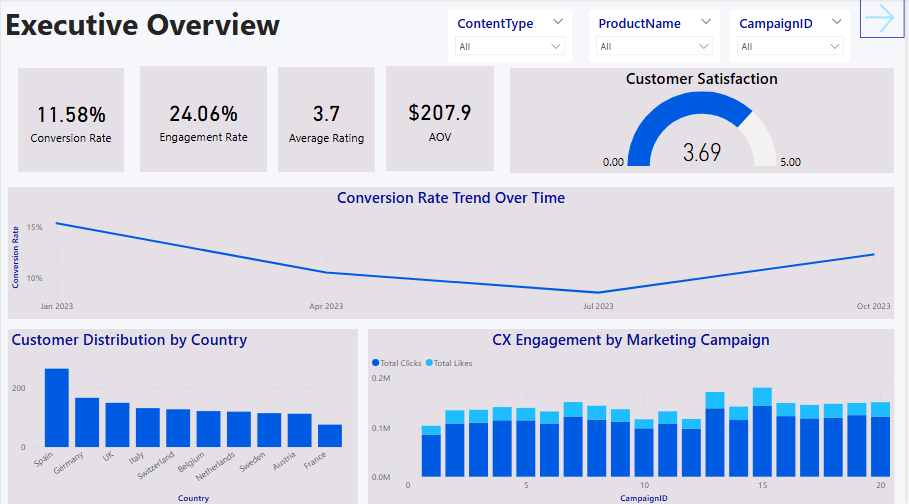

The page's visual inventory and layout, read from the dashboard file:
{"tool":"powerbi","page":{"name":"Executive Overview","canvas":[1280,720],"ordinal":1},"visuals":[{"type":"textbox","box":[0,0,614.9,77.8],"z":0},{"type":"card","fields":{"Values":["KPI_Measures.Conversion Rate"]},"box":[24.1,97.8,150.2,147.4],"z":1000},{"type":"card","fields":{"Values":["KPI_Measures.Engagement Rate"]},"box":[197,95,180,150.2],"z":2000},{"type":"card","fields":{"Values":["KPI_Measures.AOV"]},"box":[392.6,96.4,137.5,148.8],"z":3000},{"type":"lineChart","title":"Conversion Rate Trend Over Time","fields":{"Y":["KPI_Measures.Conversion Rate"],"Category":["DateTable.Date.Variation.Date Hierarchy.Year","DateTable.Date.Variation.Date Hierarchy.Quarter","DateTable.Date.Variation.Date Hierarchy.Month","DateTable.Date.Variation.Date Hierarchy.Day"]},"box":[9.9,266.5,1255.7,187.1],"z":4000},{"type":"gauge","title":"Customer Satisfaction","fields":{"Y":["KPI_Measures.Avg Rating"]},"box":[721.4,97.8,279.2,148.8],"z":5000},{"type":"clusteredColumnChart","title":"Customer Distribution by Country","fields":{"Category":["vw_geography_final.Country","vw_geography_final.City"],"Y":["CountNonNull(vw_customer_journey_cta.CustomerID)"]},"box":[9.9,467.7,496.1,252.3],"z":6000},{"type":"columnChart","title":"CX Engagement by Marketing Campaign","fields":{"Y":["KPI_Measures.Total Clicks","KPI_Measures.Total Likes"],"Category":["vw_engagement_data_final.CampaignID"]},"box":[520.2,467.7,745.5,252.3],"z":7000},{"type":"slicer","fields":{"Values":["vw_engagement_data_final.EngagementDate"]},"box":[1033.2,112,243.8,107.7],"z":8000},{"type":"slicer","fields":{"Values":["vw_engagement_data_final.CampaignID"]},"box":[1033.2,15.6,171.5,73.7],"z":9000},{"type":"slicer","fields":{"Values":["vw_products_final.ProductName"]},"box":[833.4,15.6,185.7,73.7],"z":10000},{"type":"slicer","fields":{"Values":["vw_engagement_data_final.ContentType"]},"box":[633.5,15.6,175.7,73.7],"z":11000},{"type":"actionButton","box":[1216.8,0,63.4,54.7],"z":12000},{"type":"card","fields":{"Values":["KPI_Measures.AOV"]},"box":[545.7,95,153.1,148.8],"z":13000}]}

Visuals, with their boxes in screenshot pixels (x1, y1, x2, y2), scaled from the page's 1280x720 canvas onto the 909x504 screenshot:
textbox: region(0, 0, 437, 54)
card - KPI_Measures.Conversion Rate: region(17, 68, 124, 172)
card - KPI_Measures.Engagement Rate: region(140, 66, 268, 172)
card - KPI_Measures.AOV: region(279, 67, 376, 172)
"Conversion Rate Trend Over Time" lineChart: region(7, 187, 899, 318)
"Customer Satisfaction" gauge: region(512, 68, 711, 173)
"Customer Distribution by Country" clusteredColumnChart: region(7, 327, 359, 503)
"CX Engagement by Marketing Campaign" columnChart: region(369, 327, 899, 503)
slicer - vw_engagement_data_final.EngagementDate: region(734, 78, 907, 154)
slicer - vw_engagement_data_final.CampaignID: region(734, 11, 856, 63)
slicer - vw_products_final.ProductName: region(592, 11, 724, 63)
slicer - vw_engagement_data_final.ContentType: region(450, 11, 575, 63)
actionButton: region(864, 0, 908, 38)
card - KPI_Measures.AOV: region(388, 66, 496, 171)
